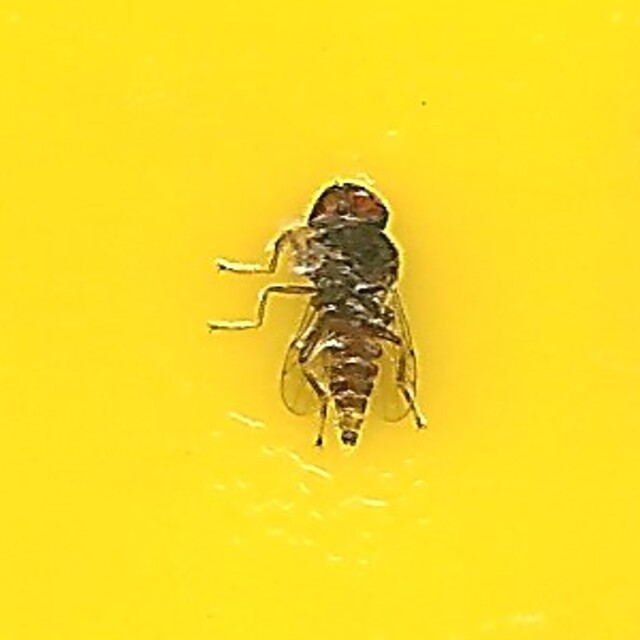Brachycera: (213, 181, 427, 459)
